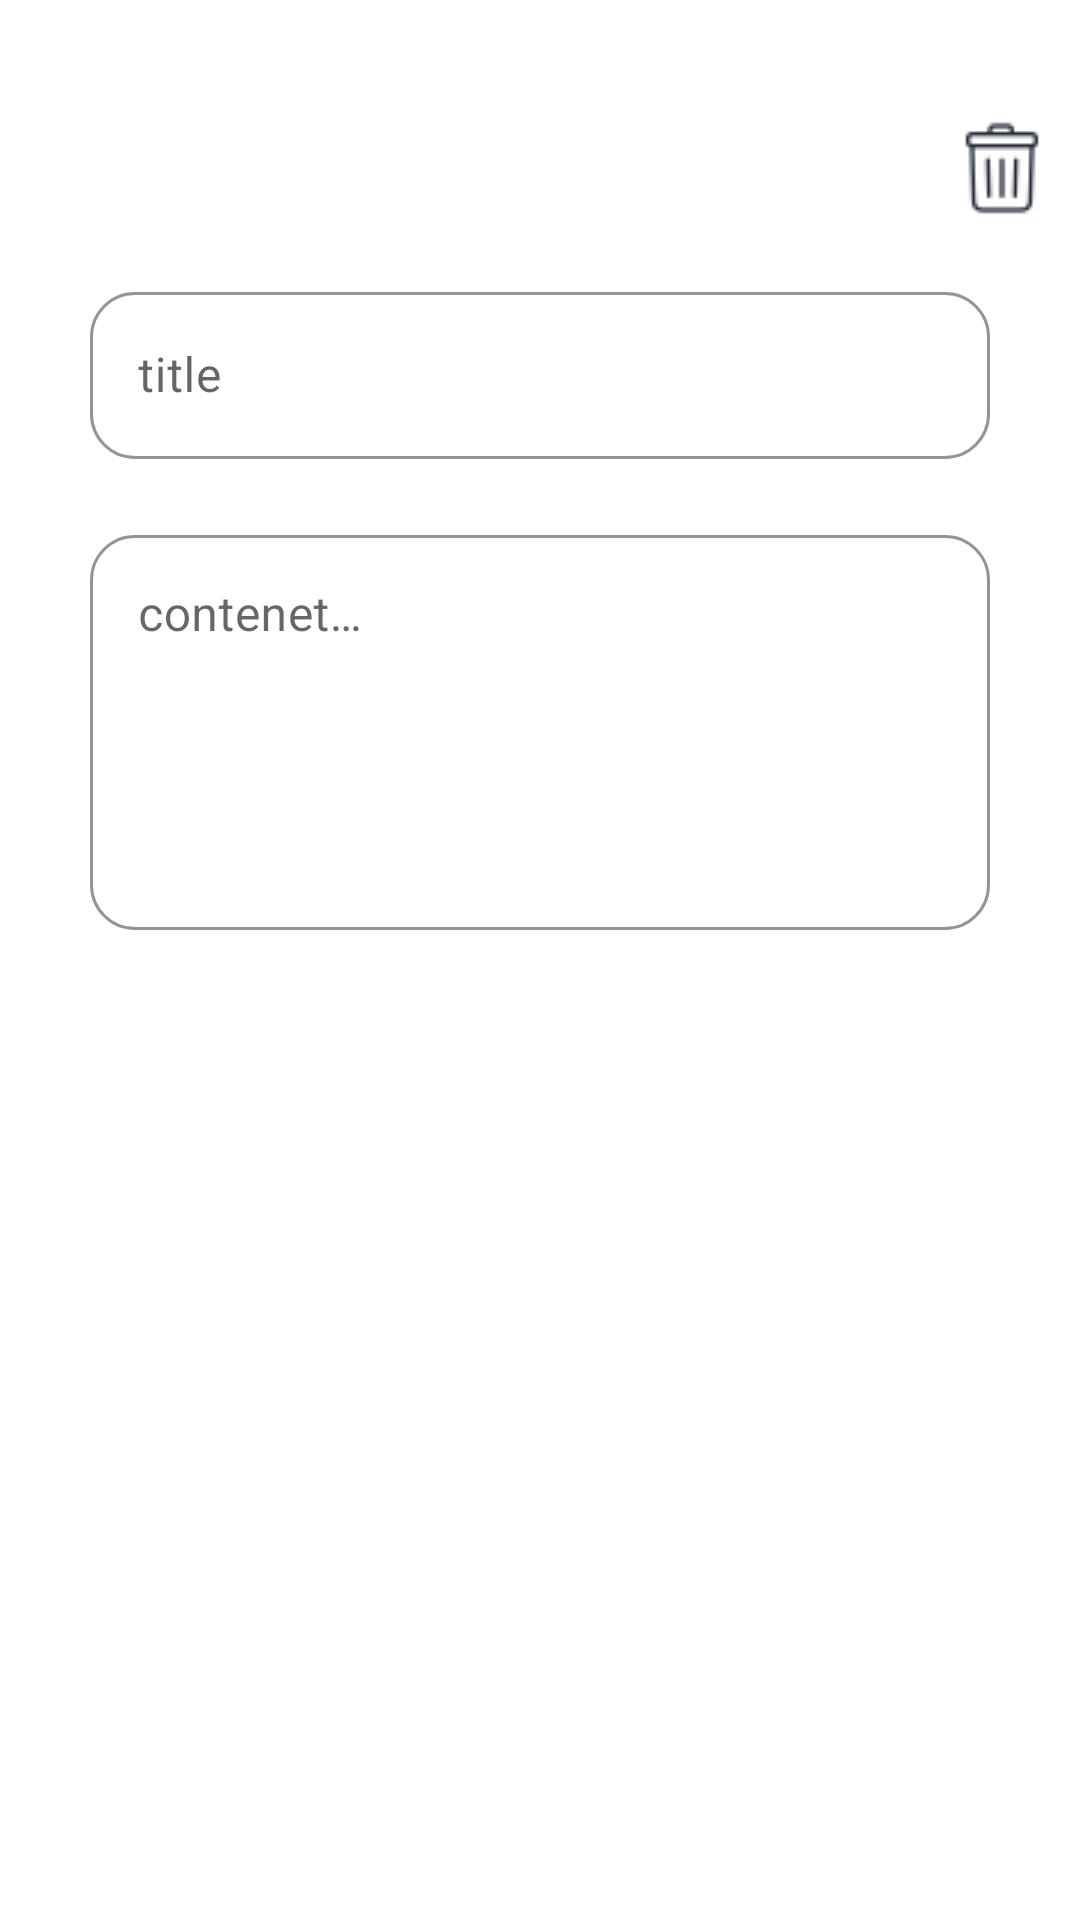

Icons on this 1080x1920 Android screen, each with the point to tap as point (x, y):
delete: point (1002, 168)
